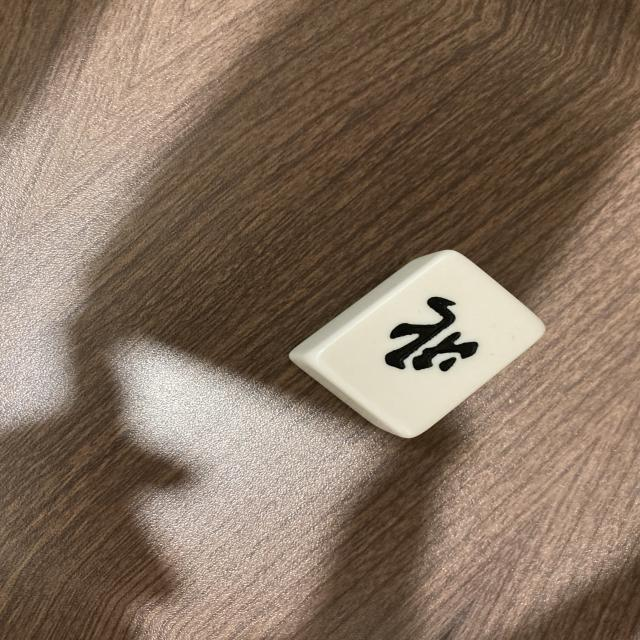NW: (308, 245, 543, 448)
